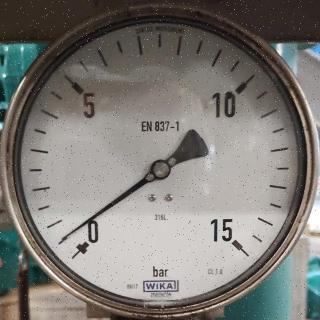gauge: (0, 0, 320, 320), (215, 224, 249, 258), (69, 226, 101, 262), (150, 158, 172, 180), (56, 229, 72, 245)
